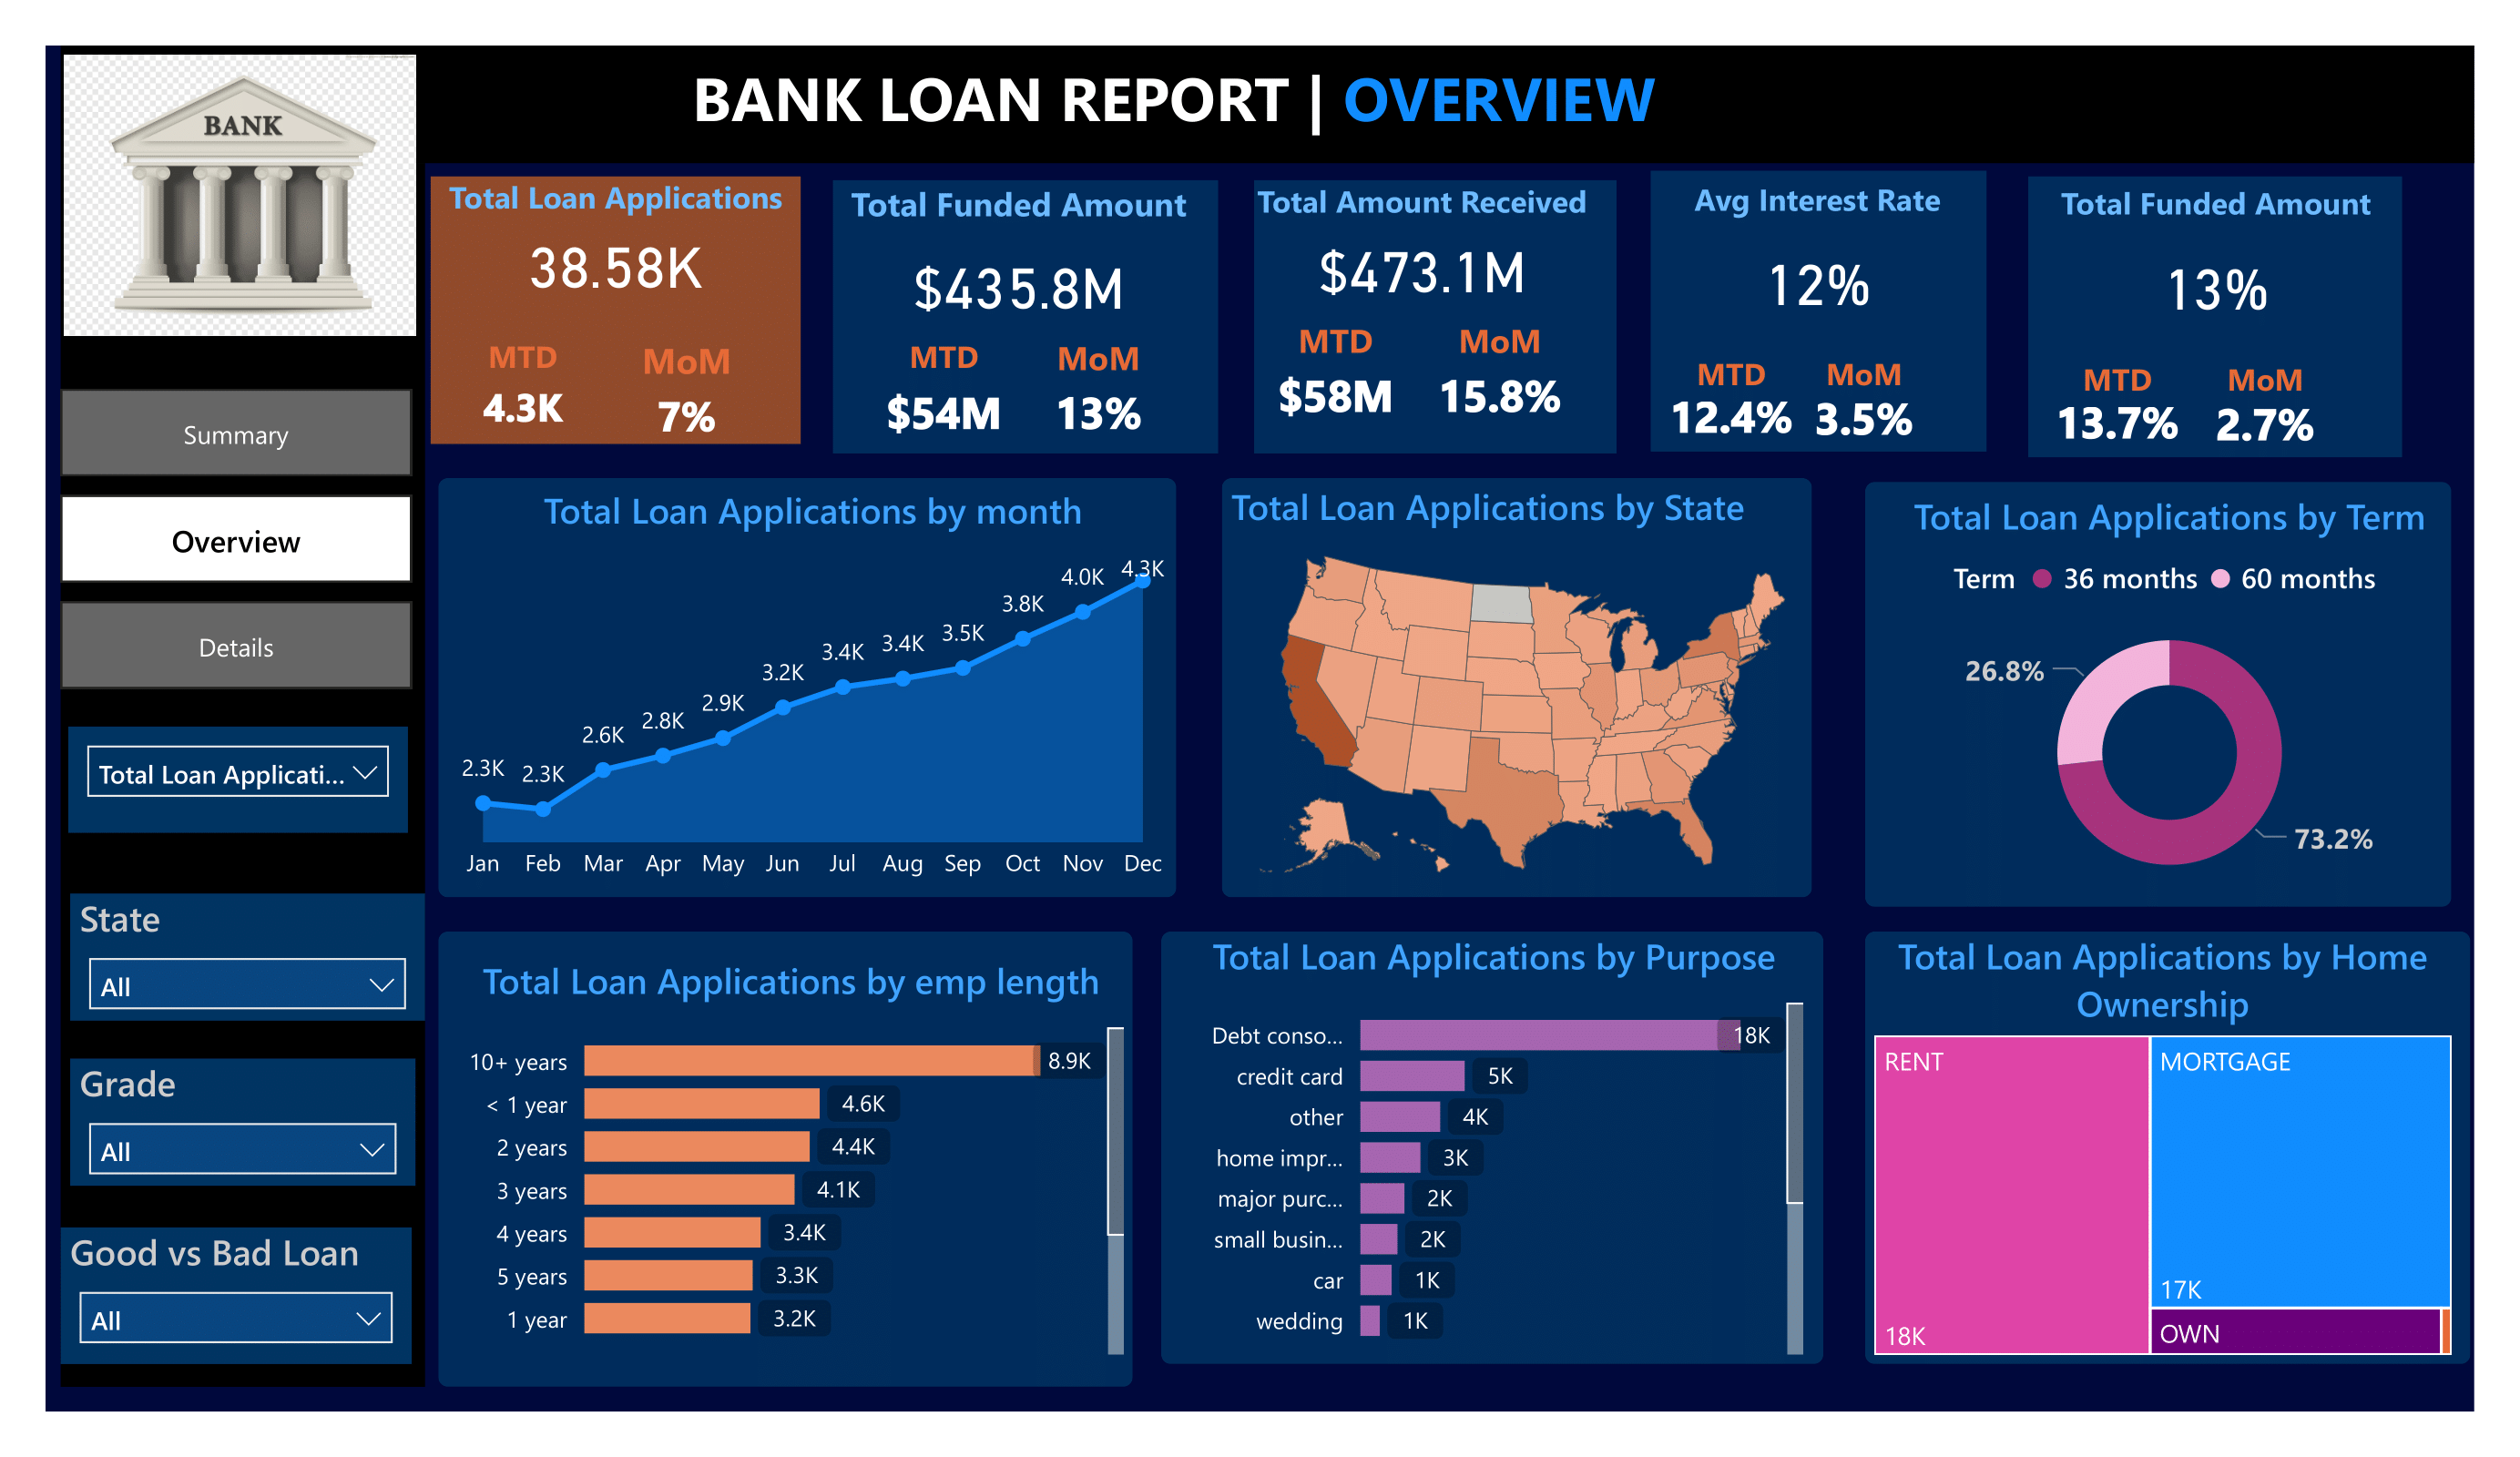

What the dashboard file says about the page in this screenshot:
{"tool":"powerbi","page":{"name":"Overview","canvas":[1280,720],"ordinal":1},"visuals":[{"type":"shape","box":[8.4,0,1271.6,62.2],"z":0},{"type":"shape","box":[203.3,68.9,194.9,141.1],"z":0,"group":"g1"},{"type":"shape","box":[414.9,70.6,203.3,144.5],"z":0,"group":"g2"},{"type":"shape","box":[636.6,70.6,191.5,144.5],"z":1000},{"type":"shape","box":[8.4,62.2,192,645],"z":2000},{"type":"shape","box":[846.6,65.5,176.9,147.8],"z":2000,"group":"g3"},{"type":"shape","box":[1044.8,68.9,197.5,147.8],"z":2000,"group":"g4"},{"type":"textbox","box":[336,0,562.7,62.2],"z":3000},{"type":"card","title":"Total Loan Applications","fields":{"Values":["financial_loan.Total Loan Applications"]},"box":[203.3,68.9,194.9,70.6],"z":3000,"group":"g1"},{"type":"card","title":"Total Funded Amount","fields":{"Values":["financial_loan.total funded amount"]},"box":[408.2,70.6,210,87.3],"z":3000,"group":"g2"},{"type":"group","id":"g1","title":"Group 3","box":[203.3,68.9,194.9,146.1],"z":4000},{"type":"card","title":"MTD","fields":{"Values":["financial_loan.MTD Loan Application"]},"box":[206.7,152.9,90.7,57.1],"z":4000,"group":"g1"},{"type":"card","title":"MTD","fields":{"Values":["financial_loan.MTD funded Amount"]},"box":[433.4,152.9,80.6,62.2],"z":4000,"group":"g2"},{"type":"group","id":"g2","title":"Group 4","box":[408.2,70.6,210,144.5],"z":5000},{"type":"card","title":"Total Amount Received","fields":{"Values":["financial_loan.total amount received"]},"box":[628.2,70.6,194.9,72.2],"z":5000,"group":"g5"},{"type":"card","title":"MoM","fields":{"Values":["financial_loan.MOM funded maount"]},"box":[514,151.2,82.3,62.2],"z":5000,"group":"g2"},{"type":"card","title":"MoM","fields":{"Values":["financial_loan.MOM loan application"]},"box":[297.4,152.9,82.3,62.2],"z":5000,"group":"g1"},{"type":"group","id":"g3","title":"Group 1","box":[833.1,65.5,201.6,147.8],"z":6000},{"type":"card","title":"Avg Interest Rate","fields":{"Values":["financial_loan.Avg int rate"]},"box":[833.1,69.1,201.6,87],"z":6000,"group":"g3"},{"type":"card","title":"Avg DTI","fields":{"Values":["financial_loan.Avg dti"]},"box":[1044.9,72.3,198.2,87.3],"z":6000,"group":"g4"},{"type":"group","id":"g4","title":"Group 2","box":[1044.8,68.9,198.3,147.8],"z":7000},{"type":"card","title":"MTD","fields":{"Values":["financial_loan.MTD total Amount"]},"box":[631.6,142.8,97.4,62.2],"z":7000,"group":"g5"},{"type":"card","title":"MTD","fields":{"Values":["financial_loan.MTD avg int rate"]},"box":[846.6,161.2,84.2,48.7],"z":8000,"group":"g3"},{"type":"card","title":"MTD","fields":{"Values":["financial_loan.MTD avg dti rate"]},"box":[1044.8,164.6,94,48.7],"z":8000,"group":"g4"},{"type":"shape","box":[206.6,228.5,389.7,220.1],"z":8000},{"type":"card","title":"MoM","fields":{"Values":["financial_loan.Mom total amount received"]},"box":[725.6,142.8,82.3,62.2],"z":9000,"group":"g5"},{"type":"shape","box":[619.8,228.5,310.8,220.1],"z":9000},{"type":"group","id":"g5","title":"Group 5","box":[628.2,70.6,194.9,134.4],"z":10000},{"type":"card","title":"MoM","fields":{"Values":["financial_loan.MOM avg int rate"]},"box":[919,161.2,79.2,50.4],"z":10000,"group":"g3"},{"type":"card","title":"MoM","fields":{"Values":["financial_loan.MoM dti"]},"box":[1125.7,164.6,88.4,50.4],"z":10000,"group":"g4"},{"type":"slicer","title":"State","fields":{"Values":["financial_loan.address_state"]},"box":[13.4,446.8,186.5,67.2],"z":11000},{"type":"slicer","title":"Grade","fields":{"Values":["financial_loan.grade"]},"box":[13.4,534.2,181.4,67.2],"z":12000},{"type":"slicer","title":"Good vs Bad Loan","fields":{"Values":["financial_loan.good vs bad loan"]},"box":[8.4,623.2,184.8,72.2],"z":13000},{"type":"areaChart","fields":{"Y":["financial_loan.Total Loan Applications"],"Category":["date_table.month"]},"box":[213.3,231.8,383,216.7],"z":14000},{"type":"slicer","fields":{"Values":["select measure.select measure"]},"box":[11.8,359.5,179.7,55.4],"z":15000},{"type":"shapeMap","fields":{"Value":["financial_loan.Total Loan Applications"],"Category":["financial_loan.address_state"]},"box":[619.8,230.1,317.5,220.1],"z":16000},{"type":"shape","box":[959.2,230.1,309.1,223.4],"z":17000},{"type":"donutChart","fields":{"Y":["financial_loan.Total Loan Applications"],"Category":["financial_loan.term"]},"box":[959.2,235.2,320.8,218.4],"z":18000},{"type":"shape","box":[206.6,467,366.2,240.2],"z":19000},{"type":"barChart","fields":{"Y":["financial_loan.Total Loan Applications"],"Category":["financial_loan.emp_length"]},"box":[213.3,480.4,359.5,215],"z":20000},{"type":"shape","box":[587.9,467,349.4,228.5],"z":21000},{"type":"shape","box":[959.2,467,319.2,228.5],"z":22000},{"type":"barChart","fields":{"Y":["financial_loan.Total Loan Applications"],"Category":["financial_loan.purpose"]},"box":[596.3,467,334.3,228.5],"z":23000},{"type":"treemap","fields":{"Values":["financial_loan.Total Loan Applications"],"Group":["financial_loan.home_ownership"]},"box":[959.2,467,314.1,228.5],"z":24000},{"type":"pageNavigator","box":[8.4,181.4,184.8,157.9],"z":25000},{"type":"image","box":[5,0,194.9,157.9],"z":26000}]}

Visuals, with their boxes on the page's 1280x720 design canvas (x1, y1, x2, y2). These are canvas units, not pixel positions in the 2520x1457 screenshot, which may show the page scaled, cropped or inside an application window:
shape: (8,0,1280,62)
shape: (203,69,398,210)
shape: (415,71,618,215)
shape: (637,71,828,215)
shape: (8,62,200,707)
shape: (847,66,1024,213)
shape: (1045,69,1242,217)
textbox: (336,0,899,62)
"Total Loan Applications" card: (203,69,398,140)
"Total Funded Amount" card: (408,71,618,158)
"Group 3" group: (203,69,398,215)
"MTD" card: (207,153,297,210)
"MTD" card: (433,153,514,215)
"Group 4" group: (408,71,618,215)
"Total Amount Received" card: (628,71,823,143)
"MoM" card: (514,151,596,213)
"MoM" card: (297,153,380,215)
"Group 1" group: (833,66,1035,213)
"Avg Interest Rate" card: (833,69,1035,156)
"Avg DTI" card: (1045,72,1243,160)
"Group 2" group: (1045,69,1243,217)
"MTD" card: (632,143,729,205)
"MTD" card: (847,161,931,210)
"MTD" card: (1045,165,1139,213)
shape: (207,228,596,449)
"MoM" card: (726,143,808,205)
shape: (620,228,931,449)
"Group 5" group: (628,71,823,205)
"MoM" card: (919,161,998,212)
"MoM" card: (1126,165,1214,215)
"State" slicer: (13,447,200,514)
"Grade" slicer: (13,534,195,601)
"Good vs Bad Loan" slicer: (8,623,193,695)
areaChart - financial_loan.Total Loan Applications x date_table.month: (213,232,596,448)
slicer - select measure.select measure: (12,360,192,415)
shapeMap - financial_loan.Total Loan Applications x financial_loan.address_state: (620,230,937,450)
shape: (959,230,1268,454)
donutChart - financial_loan.Total Loan Applications x financial_loan.term: (959,235,1280,454)
shape: (207,467,573,707)
barChart - financial_loan.Total Loan Applications x financial_loan.emp_length: (213,480,573,695)
shape: (588,467,937,696)
shape: (959,467,1278,696)
barChart - financial_loan.Total Loan Applications x financial_loan.purpose: (596,467,931,696)
treemap - financial_loan.Total Loan Applications x financial_loan.home_ownership: (959,467,1273,696)
pageNavigator: (8,181,193,339)
image: (5,0,200,158)
